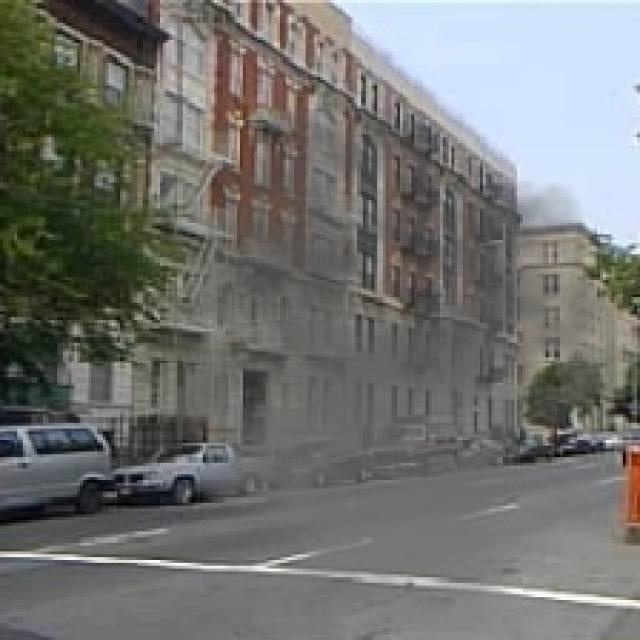Smoke: (105, 103, 638, 632)
